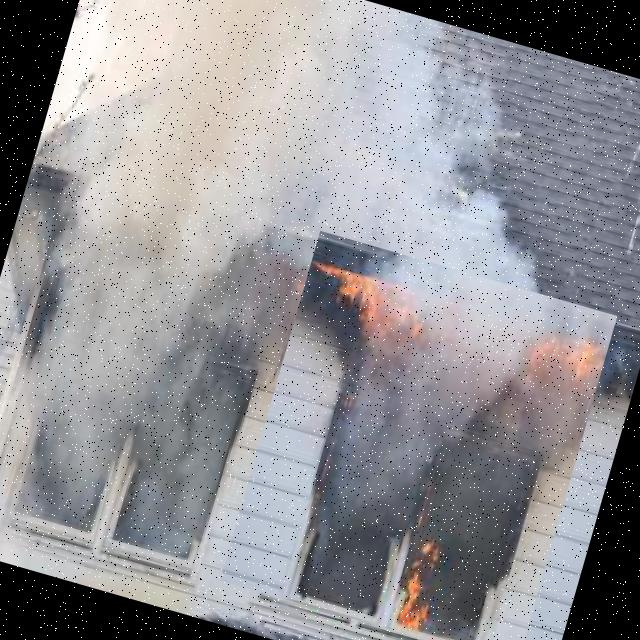fire: (219, 230, 616, 640)
